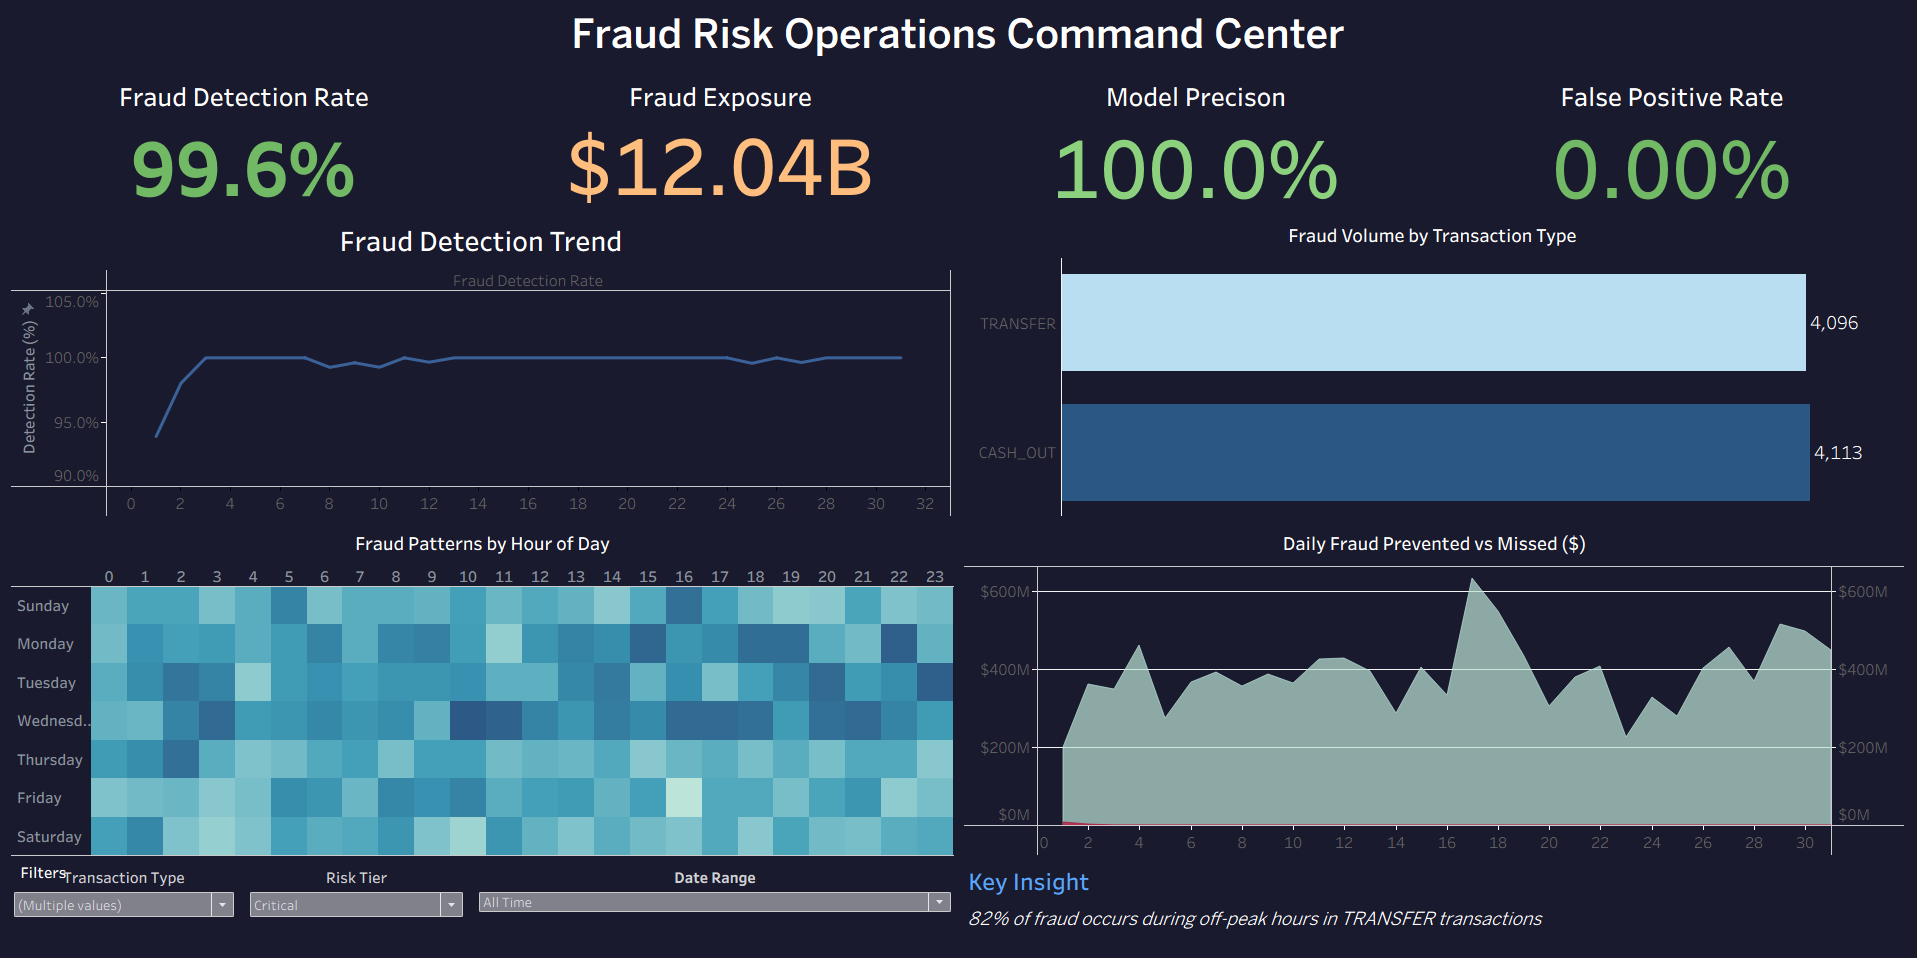

What the dashboard file says about the page in this screenshot:
{"tool":"tableau","page":{"name":"Command Center","canvas":[1000,1000],"units":"permille","ordinal":0},"visuals":[{"type":"text","box":[4.8,10,990.3,72.7]},{"type":"worksheet","title":"KPI_DetectionRate","mark":"Automatic","box":[4.8,82.7,247.6,142.6]},{"type":"worksheet","title":"KPI_FraudExposure","mark":"Automatic","box":[252.4,82.7,247.6,142.6]},{"type":"worksheet","title":"KPI_Precision","mark":"Automatic","box":[500,82.7,247.6,142.6]},{"type":"worksheet","title":"KPI_FalsePositive","mark":"Automatic","box":[747.6,82.7,247.6,142.6]},{"type":"worksheet","title":"Trend_DetectionRate","mark":"Line","rows":["Calculation_2063533018013696"],"cols":["day_number"],"box":[4.8,225.3,494.3,309.7]},{"type":"worksheet","title":"Bar_TransactionType","mark":"Automatic","rows":["type"],"cols":["isFraud"],"box":[499.1,225.3,496.1,309.7]},{"type":"worksheet","title":"Heatmap_Hourly","mark":"Automatic","rows":["Calculation_2063533031858183"],"cols":["hour_of_day"],"box":[4.8,535,496,341.3]},{"type":"worksheet","title":"Area_FraudImpact","mark":"Area","rows":["Calculation_2063533020299269","Calculation_2063533018353667"],"cols":["day_number"],"box":[500.8,535,494.3,341.3]},{"type":"text","box":[9.8,863.7,66.1,49.8]},{"type":"text","box":[504,867.3,66.1,59.2]},{"type":"filter","title":"Bar_TransactionType","param":"[federated.0b0xij910xhhpv14q3ucm14zzzno].[none:type:nk]","box":[4.8,876.3,158.7,113.7]},{"type":"filter","title":"Heatmap_Hourly","param":"[federated.0b0xij910xhhpv14q3ucm14zzzno].[none:Calculation_2063533018411012:nk]","box":[163.6,876.3,175,113.7]},{"type":"parameter","param":"[Parameters].[Parameter 1]","box":[338.6,876.3,162.3,113.7]},{"type":"text","box":[500.9,876.3,494.3,113.7]}]}

Visuals, with their boxes on the dashboard's canvas, which has no fixed pixel size, in thousandths of its width and height (x1, y1, x2, y2). These are canvas units, not pixel positions in the 1917x958 screenshot, which may show the page scaled, cropped or inside an application window:
text: locate(5, 10, 995, 83)
"KPI_DetectionRate" worksheet: locate(5, 83, 252, 225)
"KPI_FraudExposure" worksheet: locate(252, 83, 500, 225)
"KPI_Precision" worksheet: locate(500, 83, 748, 225)
"KPI_FalsePositive" worksheet: locate(748, 83, 995, 225)
"Trend_DetectionRate" worksheet (Line marks): locate(5, 225, 499, 535)
"Bar_TransactionType" worksheet: locate(499, 225, 995, 535)
"Heatmap_Hourly" worksheet: locate(5, 535, 501, 876)
"Area_FraudImpact" worksheet (Area marks): locate(501, 535, 995, 876)
text: locate(10, 864, 76, 914)
text: locate(504, 867, 570, 926)
"Bar_TransactionType" filter: locate(5, 876, 164, 990)
"Heatmap_Hourly" filter: locate(164, 876, 339, 990)
parameter: locate(339, 876, 501, 990)
text: locate(501, 876, 995, 990)
